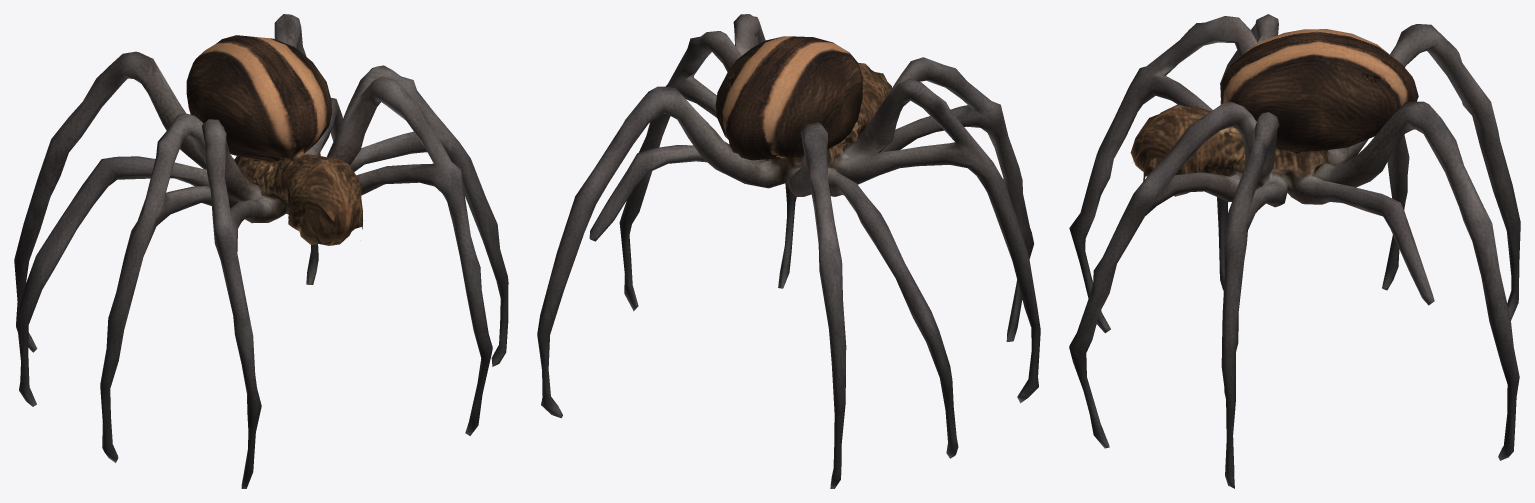
File: spider.glb
The picture shows the model from 3 angles, left to right: view 1: azimuth 30°, elevation 25°; view 2: azimuth 150°, elevation 25°; view 3: azimuth 270°, elevation 25°; orthographic projection. The views are drawn at different scales.
Parts seen in each view (by area): view 1: geometry_0; view 2: geometry_0; view 3: geometry_0.
Part boxes in pixels (x1,y1,x2,y2): geometry_0: (14,14,508,488); geometry_0: (537,14,1040,488); geometry_0: (1069,14,1520,488).
Size of the model in its own units: 0.9941 by 0.7885 by 0.9054.
1 material, 1 textured.
